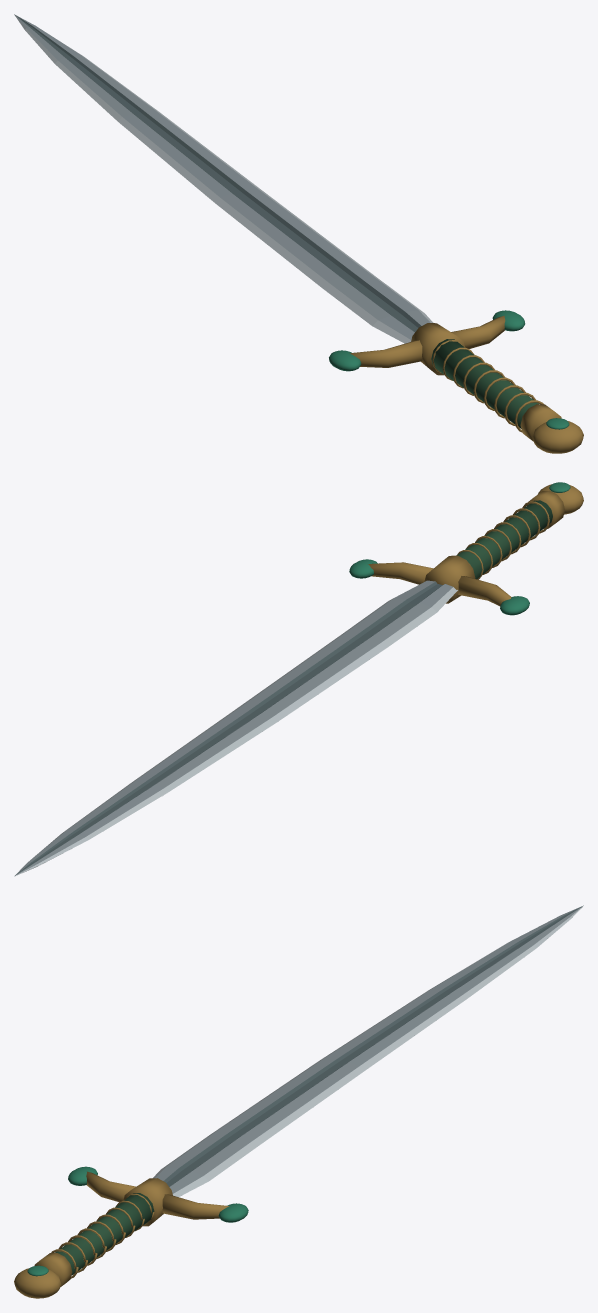
The model's file is briarsteel.glb.
The picture shows the model from 3 angles, top to bottom: view 1: azimuth 30°, elevation 25°; view 2: azimuth 150°, elevation 25°; view 3: azimuth 330°, elevation 25°; orthographic projection. The views are drawn at different scales.
Parts seen in each view (by area): view 1: MV_briarsteel; view 2: MV_briarsteel; view 3: MV_briarsteel.
Part boxes in pixels (box(x1,y1,x2,y2)): MV_briarsteel: box(14, 14, 583, 453); MV_briarsteel: box(14, 482, 583, 876); MV_briarsteel: box(14, 905, 583, 1298).
Size of the model in its own units: 0.266 by 0.054 by 1.41.
